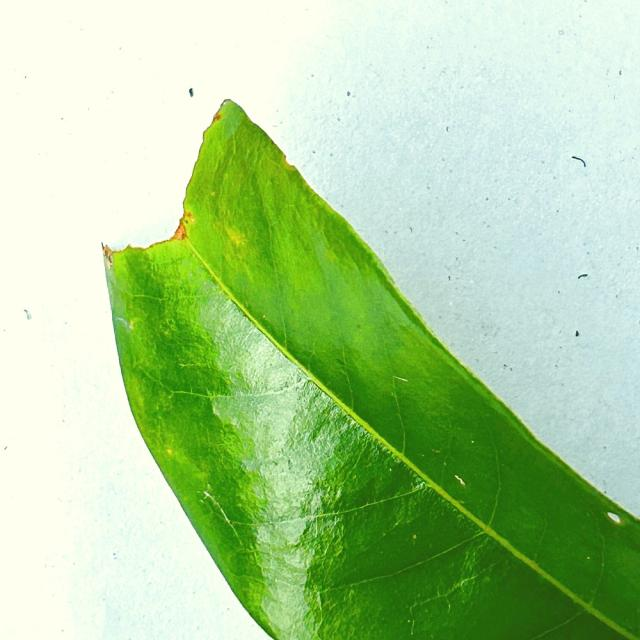Deficiency Leaf: (58, 72, 230, 260)
Lychee: (103, 100, 639, 639)
